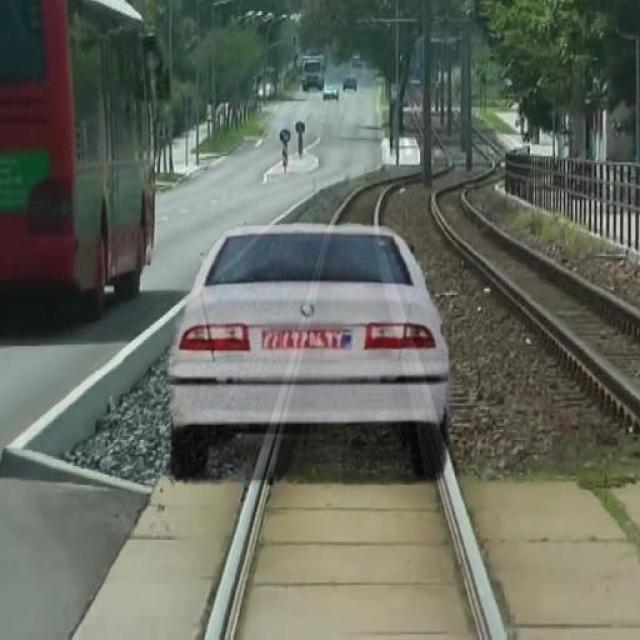vehicle: (165, 211, 454, 482)
